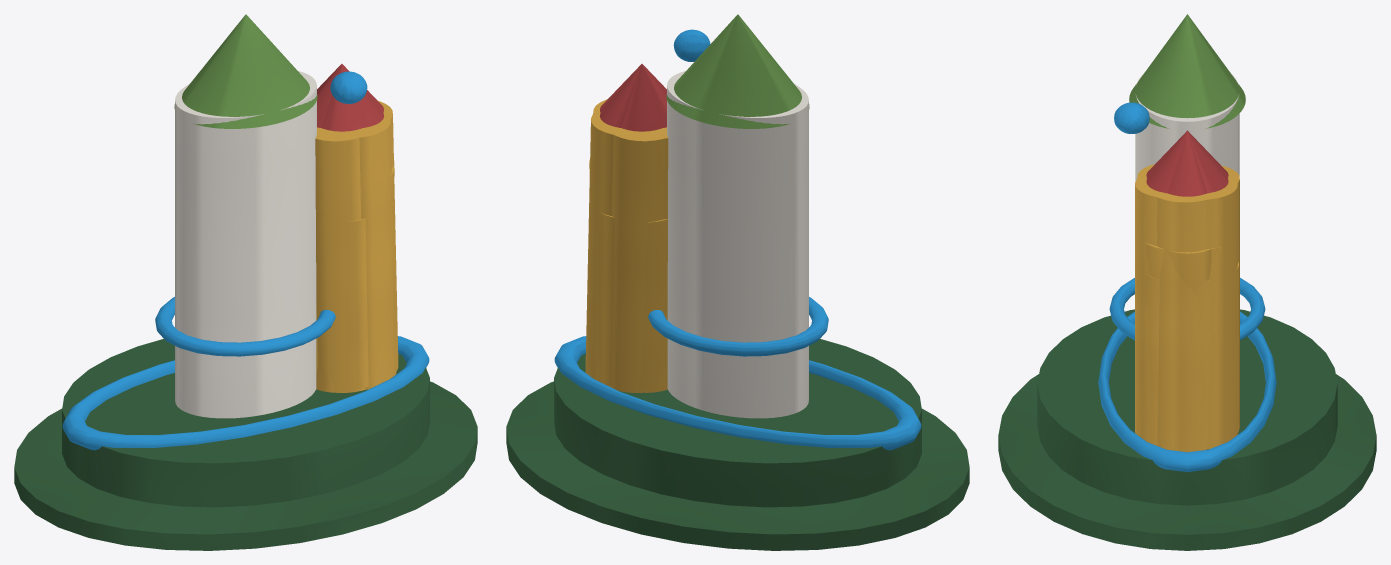
The model's file is 0545_岩石矿物图鉴_金刚石.glb.
3 views of the same model, side by side, from view 1: azimuth 30°, elevation 25°; view 2: azimuth 150°, elevation 25°; view 3: azimuth 270°, elevation 25° (orthographic). The views are drawn at different scales.
Parts seen in each view (by area): view 1: card_0545; view 2: card_0545; view 3: card_0545.
Boxes of the visible parts, x1,y1,x2,y2 form: card_0545: (14,14,477,550); card_0545: (506,14,969,550); card_0545: (998,14,1376,550).
Bounding box in the file's own units: 0.9803 × 1 × 0.7839.
